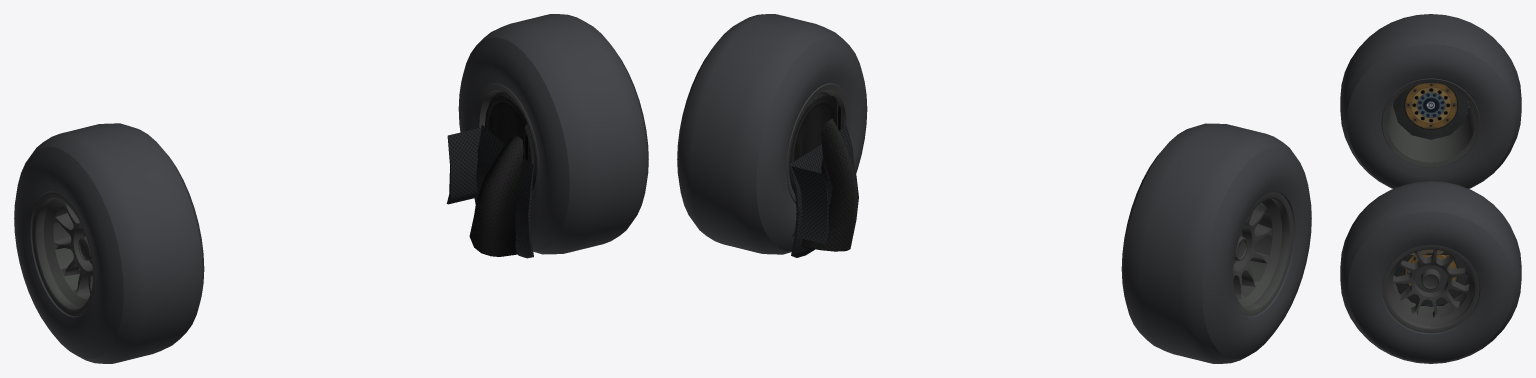
The model's file is fwheel.obj.
3 views of the same model, side by side, from view 1: azimuth 30°, elevation 25°; view 2: azimuth 150°, elevation 25°; view 3: azimuth 270°, elevation 25° (orthographic). The views are drawn at different scales.
Parts seen in each view (by area): view 1: object__46.001, object__48.001, object__45.001, object__27.001, object__47.001, object__18.001, object__19.001; view 2: object__46.001, object__48.001, object__45.001, object__47.001, object__27.001, object__18.001, object__19.001; view 3: object__47.001, object__45.001, object__48.001, object__46.001, object__19.001, object__18.001, object__36.001, object__37.001, object__27.001.
Boxes of the visible parts, left/top/right/bottom form: object__46.001: left=31, top=123, right=202, bottom=363; object__48.001: left=477, top=14, right=647, bottom=254; object__45.001: left=14, top=147, right=204, bottom=358; object__27.001: left=446, top=91, right=536, bottom=258; object__47.001: left=458, top=37, right=648, bottom=250; object__18.001: left=32, top=192, right=94, bottom=316; object__19.001: left=475, top=83, right=539, bottom=201; object__46.001: left=1123, top=123, right=1294, bottom=363; object__48.001: left=678, top=14, right=848, bottom=254; object__45.001: left=1121, top=147, right=1311, bottom=358; object__47.001: left=677, top=37, right=867, bottom=250; object__27.001: left=789, top=92, right=858, bottom=257; object__18.001: left=1231, top=192, right=1293, bottom=316; object__19.001: left=786, top=83, right=850, bottom=203; object__47.001: left=1347, top=211, right=1514, bottom=362; object__45.001: left=1347, top=44, right=1514, bottom=188; object__48.001: left=1340, top=181, right=1521, bottom=363; object__46.001: left=1340, top=14, right=1521, bottom=188; object__19.001: left=1382, top=245, right=1479, bottom=333; object__18.001: left=1381, top=78, right=1480, bottom=167; object__36.001: left=1393, top=83, right=1468, bottom=139; object__37.001: left=1394, top=255, right=1467, bottom=306; object__27.001: left=1395, top=249, right=1468, bottom=305.
Size of the model in its own units: 1.73 by 0.6512 by 0.6512.
